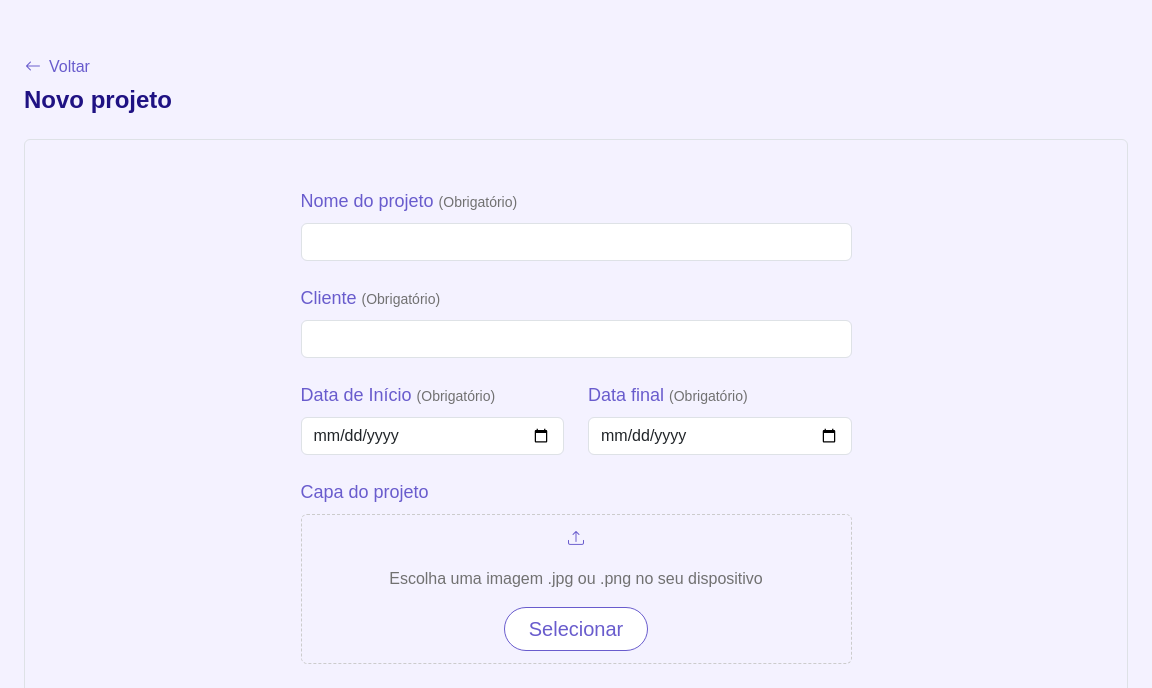
Test case: FormProjectView › Teste inputs do usuario › Verifica se ao inserir nome de projeto invalido, a mensagem de erro sera exibida
This screenshot has width=1152, height=688.
Step 1. Type "Nome" into the field labelled "Nome do projeto (Obrigatório)" → point(576, 242), box x1=300 y1=223 x2=852 y2=261
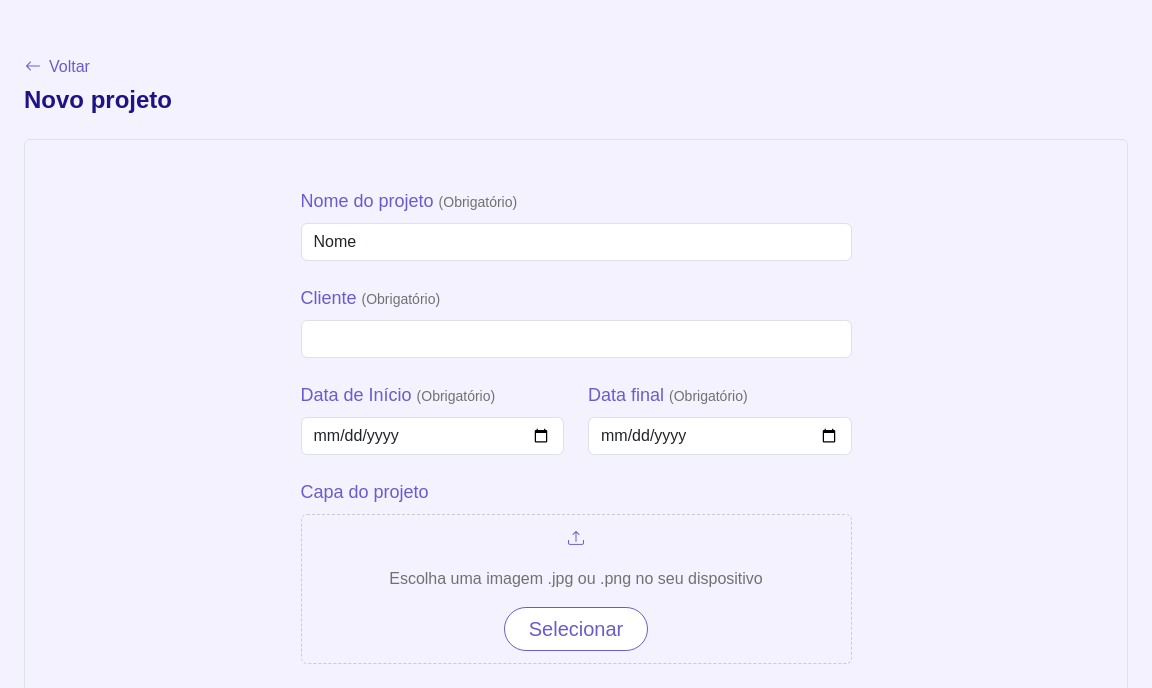
Step 2. Leave the field labelled "Nome do projeto (Obrigatório)", box x1=300 y1=223 x2=852 y2=261
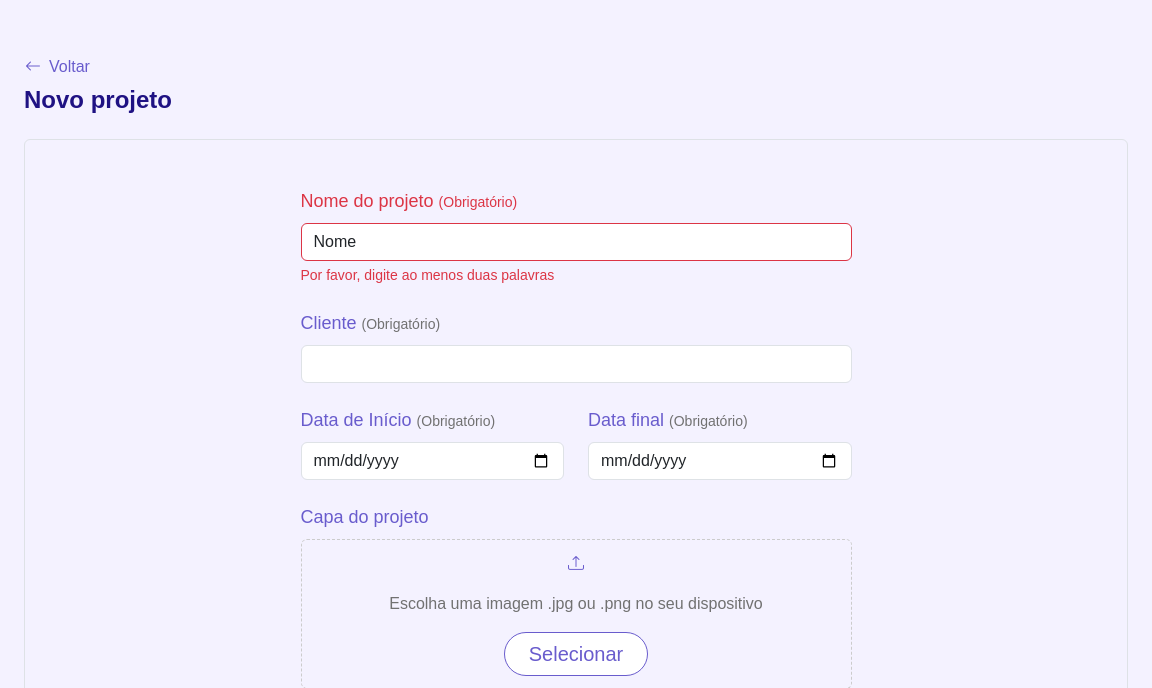
Now the text with class "invalid-feedback" reads "Por favor, digite ao menos duas palavras", box x1=300 y1=267 x2=554 y2=283
